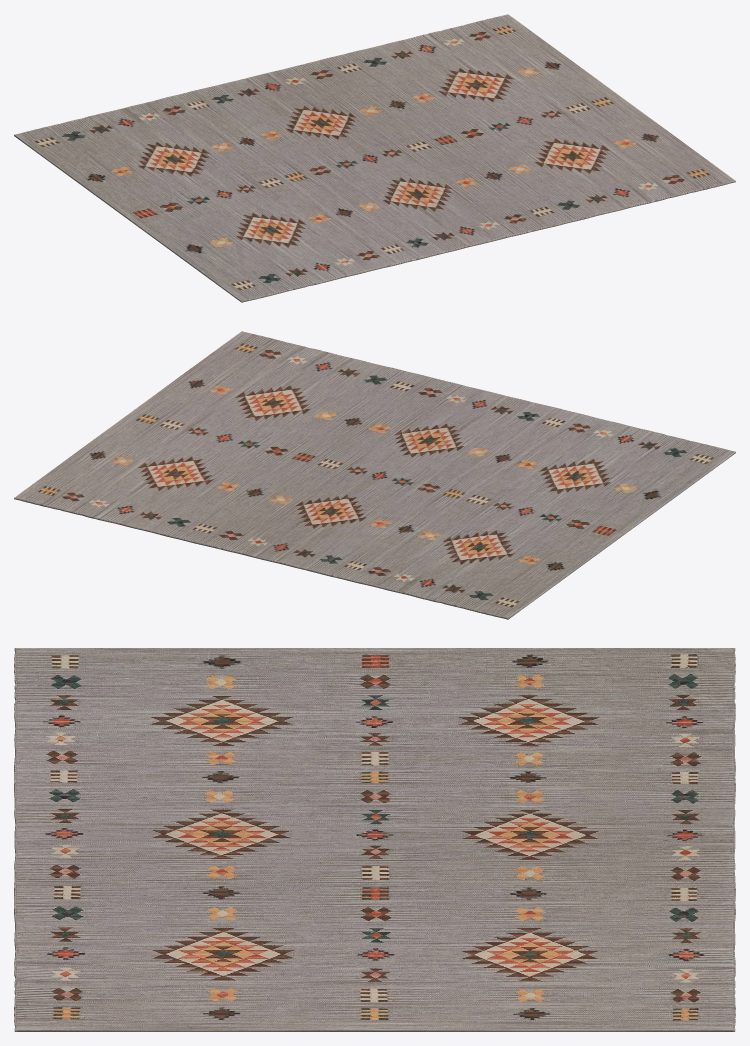
The model's file is abo-B07B4WKN5K.glb.
The picture shows the model from 3 angles, top to bottom: view 1: azimuth 30°, elevation 25°; view 2: azimuth 150°, elevation 25°; view 3: azimuth 270°, elevation 25°; orthographic projection. The views are drawn at different scales.
Size of the model in its own units: 3.04 by 0.01 by 2.42.
Materials: 1 (1 with a texture image).
